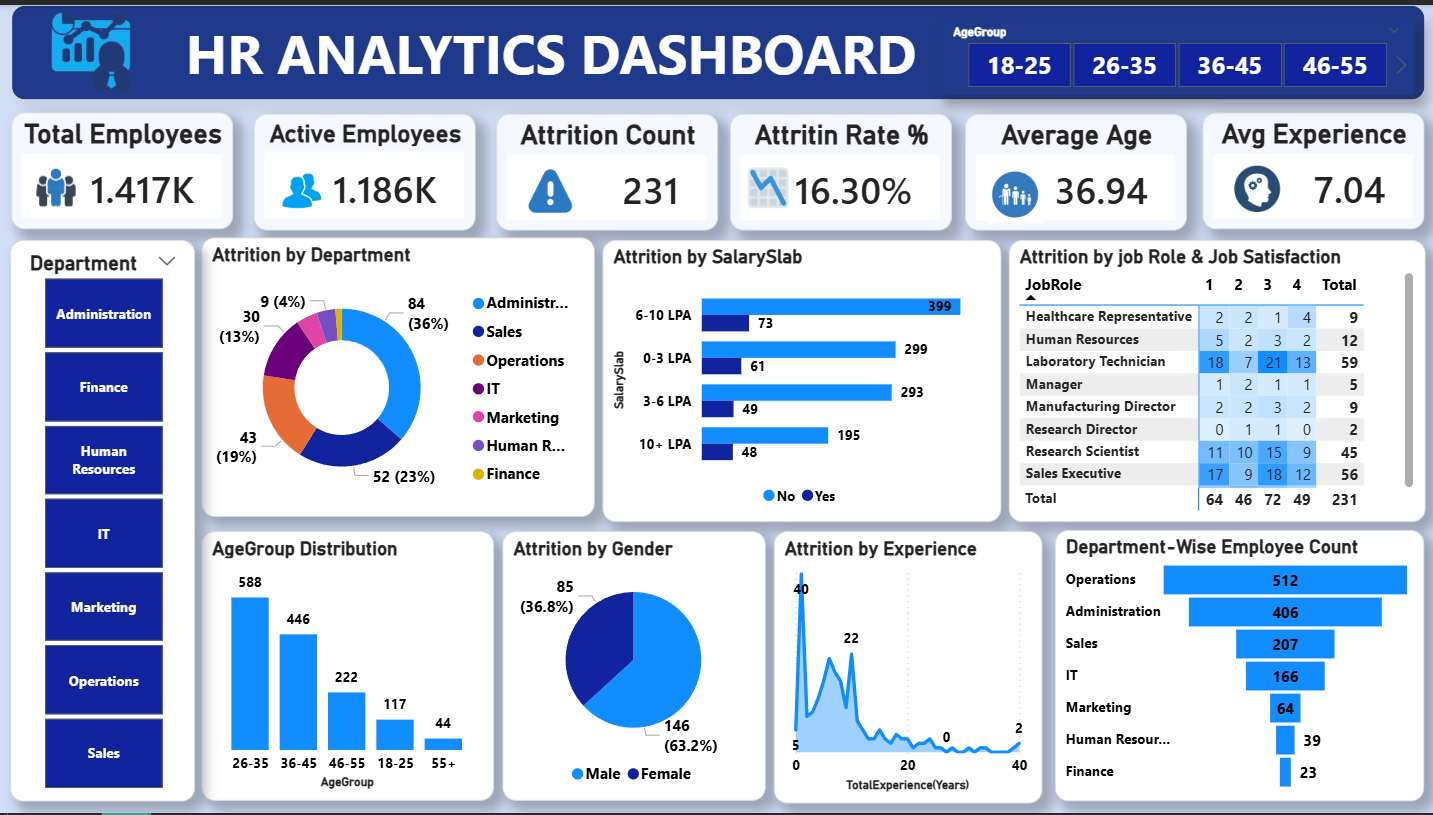

The page's visual inventory and layout, read from the dashboard file:
{"tool":"powerbi","page":{"name":"Page 1","canvas":[1280,720],"ordinal":0},"visuals":[{"type":"textbox","box":[10,0,1259,85],"z":0},{"type":"cardVisual","title":"Total Employees","fields":{"Data":["CountNonNull(HR_Analytics-4.EmpID)"]},"box":[9.8,95.7,197.5,104.3],"z":1000},{"type":"cardVisual","title":"Attrition Count","fields":{"Data":["Sum(HR_Analytics-4.AttritionCount)"]},"box":[441.7,96.9,197.5,104.3],"z":2000},{"type":"cardVisual","title":"Attritin Rate %","fields":{"Data":["HR_Analytics-4.Attrition Rate %"]},"box":[650.3,96.9,197.5,104.3],"z":3000},{"type":"cardVisual","title":"Average Age","fields":{"Data":["Avg(HR_Analytics-4.Age)"]},"box":[858.9,96.9,197.5,104.3],"z":4000},{"type":"cardVisual","title":"Avg Experience","fields":{"Data":["Avg(HR_Analytics-4.YearsatCompany)"]},"box":[1071.2,95.7,197.5,104.3],"z":5000},{"type":"cardVisual","title":"Active Employees","fields":{"Data":["CountNonNull(HR_Analytics-4.EmployeeCount)"]},"box":[225.8,96.9,197.5,104.3],"z":6000},{"type":"image","box":[27.4,135.8,43.9,53.5],"z":7000},{"type":"image","box":[465.2,142.7,49.4,46.7],"z":8000},{"type":"image","box":[1090.9,135.8,57.6,54.9],"z":9000},{"type":"image","box":[876.8,144.1,53.5,50.8],"z":10000},{"type":"image","box":[236,135.8,65.9,59],"z":11000},{"type":"image","box":[660,144.1,48,38.4],"z":12000},{"type":"donutChart","title":" Attrition by Department","fields":{"Category":["HR_Analytics-4.Department"],"Y":["Sum(HR_Analytics-4.AttritionCount)"]},"box":[179,207,350,249],"z":13000},{"type":"clusteredBarChart","title":"Attrition by SalarySlab","fields":{"Category":["HR_Analytics-4.SalarySlab"],"Y":["CountNonNull(HR_Analytics-4.EmpID)"],"Series":["HR_Analytics-4.Attrition"]},"box":[537,209,355,251],"z":14000},{"type":"pivotTable","title":"Attrition by job Role & Job Satisfaction","fields":{"Rows":["HR_Analytics-4.JobRole"],"Values":["Sum(HR_Analytics-4.AttritionCount)"],"Columns":["HR_Analytics-4.JobSatisfaction"]},"box":[898,209,371,251],"z":15000},{"type":"columnChart","title":"AgeGroup Distribution","fields":{"Category":["HR_Analytics-4.AgeGroup"],"Y":["Sum(HR_Analytics-4.EmployeeCount)"]},"box":[179,469,261,240],"z":16000},{"type":"pieChart","title":"Attrition by Gender","fields":{"Category":["HR_Analytics-4.Gender"],"Y":["Sum(HR_Analytics-4.AttritionCount)"]},"box":[448,469,234,240],"z":17000},{"type":"areaChart","title":" Attrition by Experience","fields":{"Category":["HR_Analytics-4.TotalExperience(Years)"],"Y2":["Sum(HR_Analytics-4.AttritionCount)"]},"box":[689,469,239,242],"z":18000},{"type":"funnel","title":"Department-Wise Employee Count","fields":{"Category":["HR_Analytics-4.Department"],"Y":["CountNonNull(HR_Analytics-4.EmpID)"]},"box":[939.9,467.5,328.8,241.7],"z":19000},{"type":"slicer","fields":{"Values":["HR_Analytics-4.Department"]},"box":[9,209,165,500],"z":20000},{"type":"slicer","fields":{"Values":["HR_Analytics-4.AgeGroup"]},"box":[836,12.2,423,67.9],"z":21000},{"type":"image","box":[18.4,4.9,123.9,79.8],"z":22000}]}

Visuals, with their boxes in screenshot pixels (x1, y1, x2, y2), scaled from the page's 1280x720 canvas onto the 1433x815 screenshot:
textbox: (x1=11, y1=0, x2=1421, y2=96)
"Total Employees" cardVisual: (x1=11, y1=108, x2=232, y2=226)
"Attrition Count" cardVisual: (x1=494, y1=110, x2=716, y2=228)
"Attritin Rate %" cardVisual: (x1=728, y1=110, x2=949, y2=228)
"Average Age" cardVisual: (x1=962, y1=110, x2=1183, y2=228)
"Avg Experience" cardVisual: (x1=1199, y1=108, x2=1420, y2=226)
"Active Employees" cardVisual: (x1=253, y1=110, x2=474, y2=228)
image: (x1=31, y1=154, x2=80, y2=214)
image: (x1=521, y1=162, x2=576, y2=214)
image: (x1=1221, y1=154, x2=1286, y2=216)
image: (x1=982, y1=163, x2=1041, y2=221)
image: (x1=264, y1=154, x2=338, y2=221)
image: (x1=739, y1=163, x2=793, y2=207)
" Attrition by Department" donutChart: (x1=200, y1=234, x2=592, y2=516)
"Attrition by SalarySlab" clusteredBarChart: (x1=601, y1=237, x2=999, y2=521)
"Attrition by job Role & Job Satisfaction" pivotTable: (x1=1005, y1=237, x2=1421, y2=521)
"AgeGroup Distribution" columnChart: (x1=200, y1=531, x2=493, y2=803)
"Attrition by Gender" pieChart: (x1=502, y1=531, x2=764, y2=803)
" Attrition by Experience" areaChart: (x1=771, y1=531, x2=1039, y2=805)
"Department-Wise Employee Count" funnel: (x1=1052, y1=529, x2=1420, y2=803)
slicer - HR_Analytics-4.Department: (x1=10, y1=237, x2=195, y2=803)
slicer - HR_Analytics-4.AgeGroup: (x1=936, y1=14, x2=1409, y2=91)
image: (x1=21, y1=6, x2=159, y2=96)
